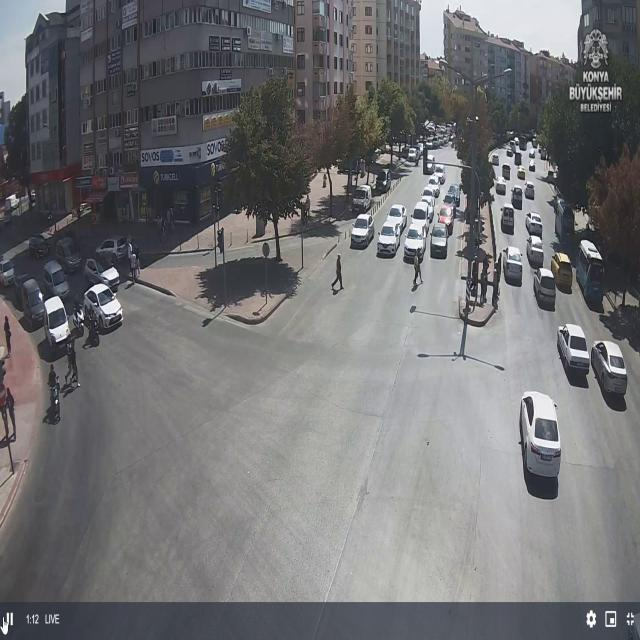Car: (503, 378, 580, 489), (591, 342, 627, 396), (83, 284, 123, 332), (575, 242, 605, 305), (556, 323, 590, 372), (18, 280, 46, 327), (41, 260, 70, 300), (83, 258, 117, 292), (96, 235, 131, 265), (532, 267, 556, 308), (55, 237, 83, 272), (550, 252, 572, 292), (377, 220, 402, 255), (403, 225, 427, 261), (554, 200, 576, 239), (350, 214, 375, 247), (504, 246, 523, 282), (429, 223, 449, 257), (336, 156, 368, 175), (385, 204, 407, 231), (525, 236, 544, 267), (352, 184, 372, 213), (411, 200, 432, 227), (28, 235, 50, 259), (437, 204, 455, 233), (0, 257, 16, 287), (525, 212, 543, 236), (374, 169, 392, 192), (501, 205, 515, 231), (422, 182, 440, 202), (445, 184, 461, 206), (74, 202, 93, 218), (511, 186, 523, 208), (433, 164, 446, 184), (427, 174, 441, 192), (555, 196, 569, 214), (5, 194, 19, 211), (0, 212, 12, 230), (495, 177, 507, 195), (524, 181, 535, 199), (424, 154, 436, 170), (407, 148, 419, 162), (29, 190, 37, 206), (528, 158, 536, 171), (509, 142, 517, 154), (539, 149, 547, 160), (426, 140, 435, 149), (528, 148, 536, 158), (492, 154, 499, 165)
Van: (42, 296, 74, 349)
